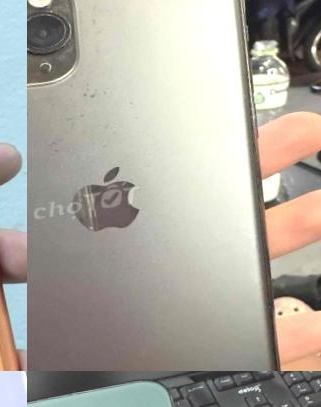scratch: (27, 0, 208, 209)
